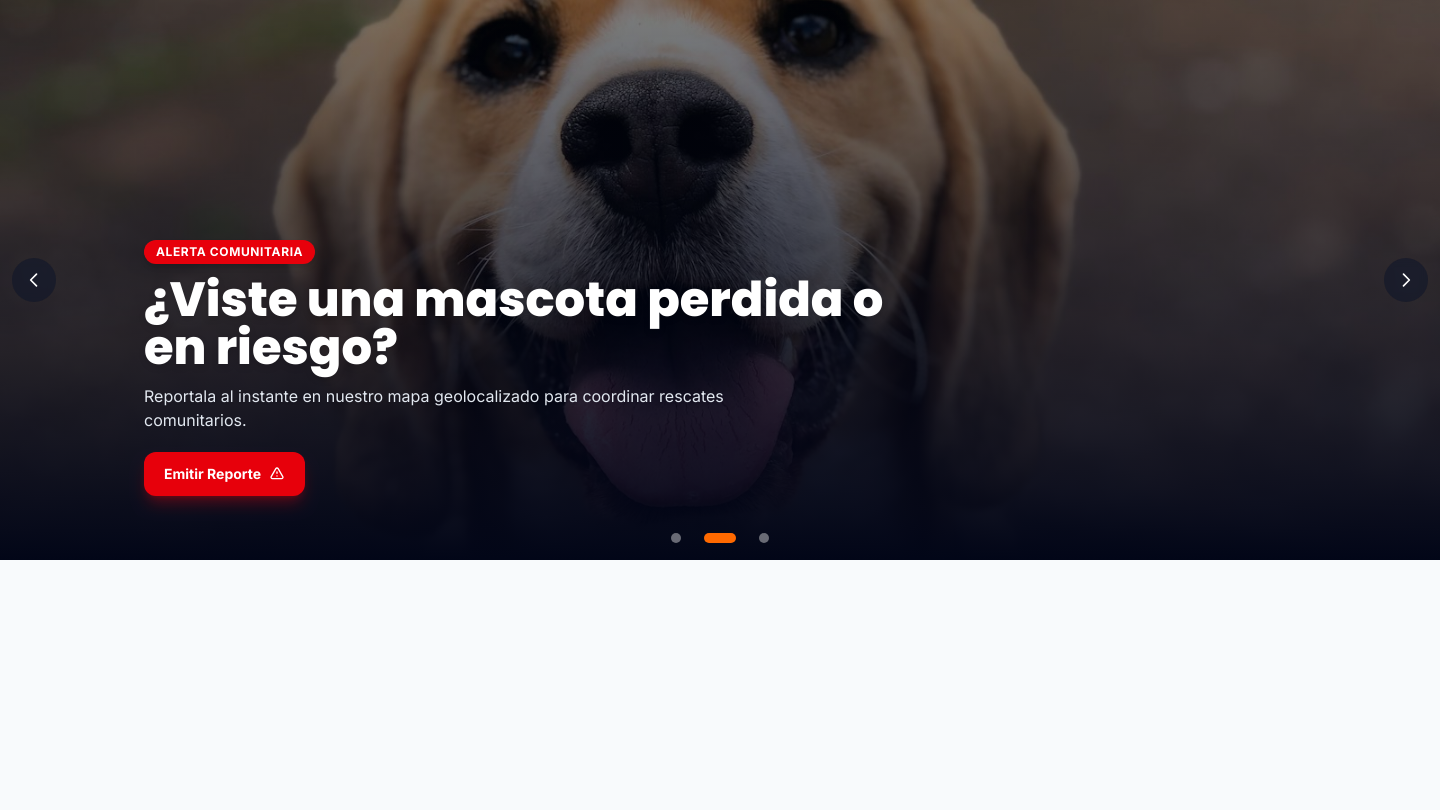
Test: HeroCarousel › avanza solo cada 6 segundos y se pausa con el mouse encima
Hover over the element named "Novedades destacadas" at (720, 280), box [0, 0, 1439, 560]
Expected: the heading "¿Viste una mascota perdida o en riesgo?" is shown, [144, 276, 912, 372]
Move the pointer off the element named "Novedades destacadas"
Wait 6000 ms
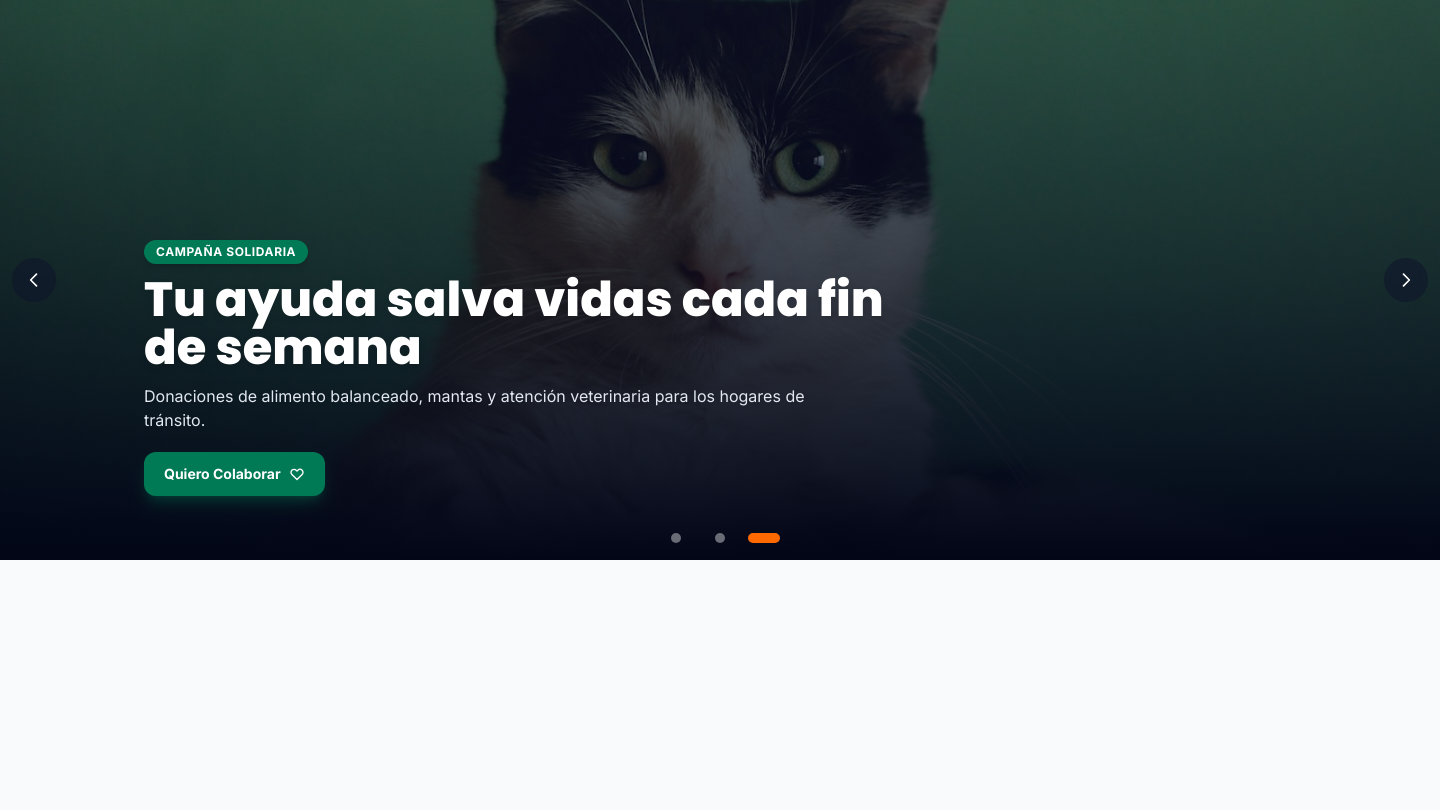
Result: the heading "Tu ayuda salva vidas cada fin de semana" is shown at [144, 276, 912, 372]
